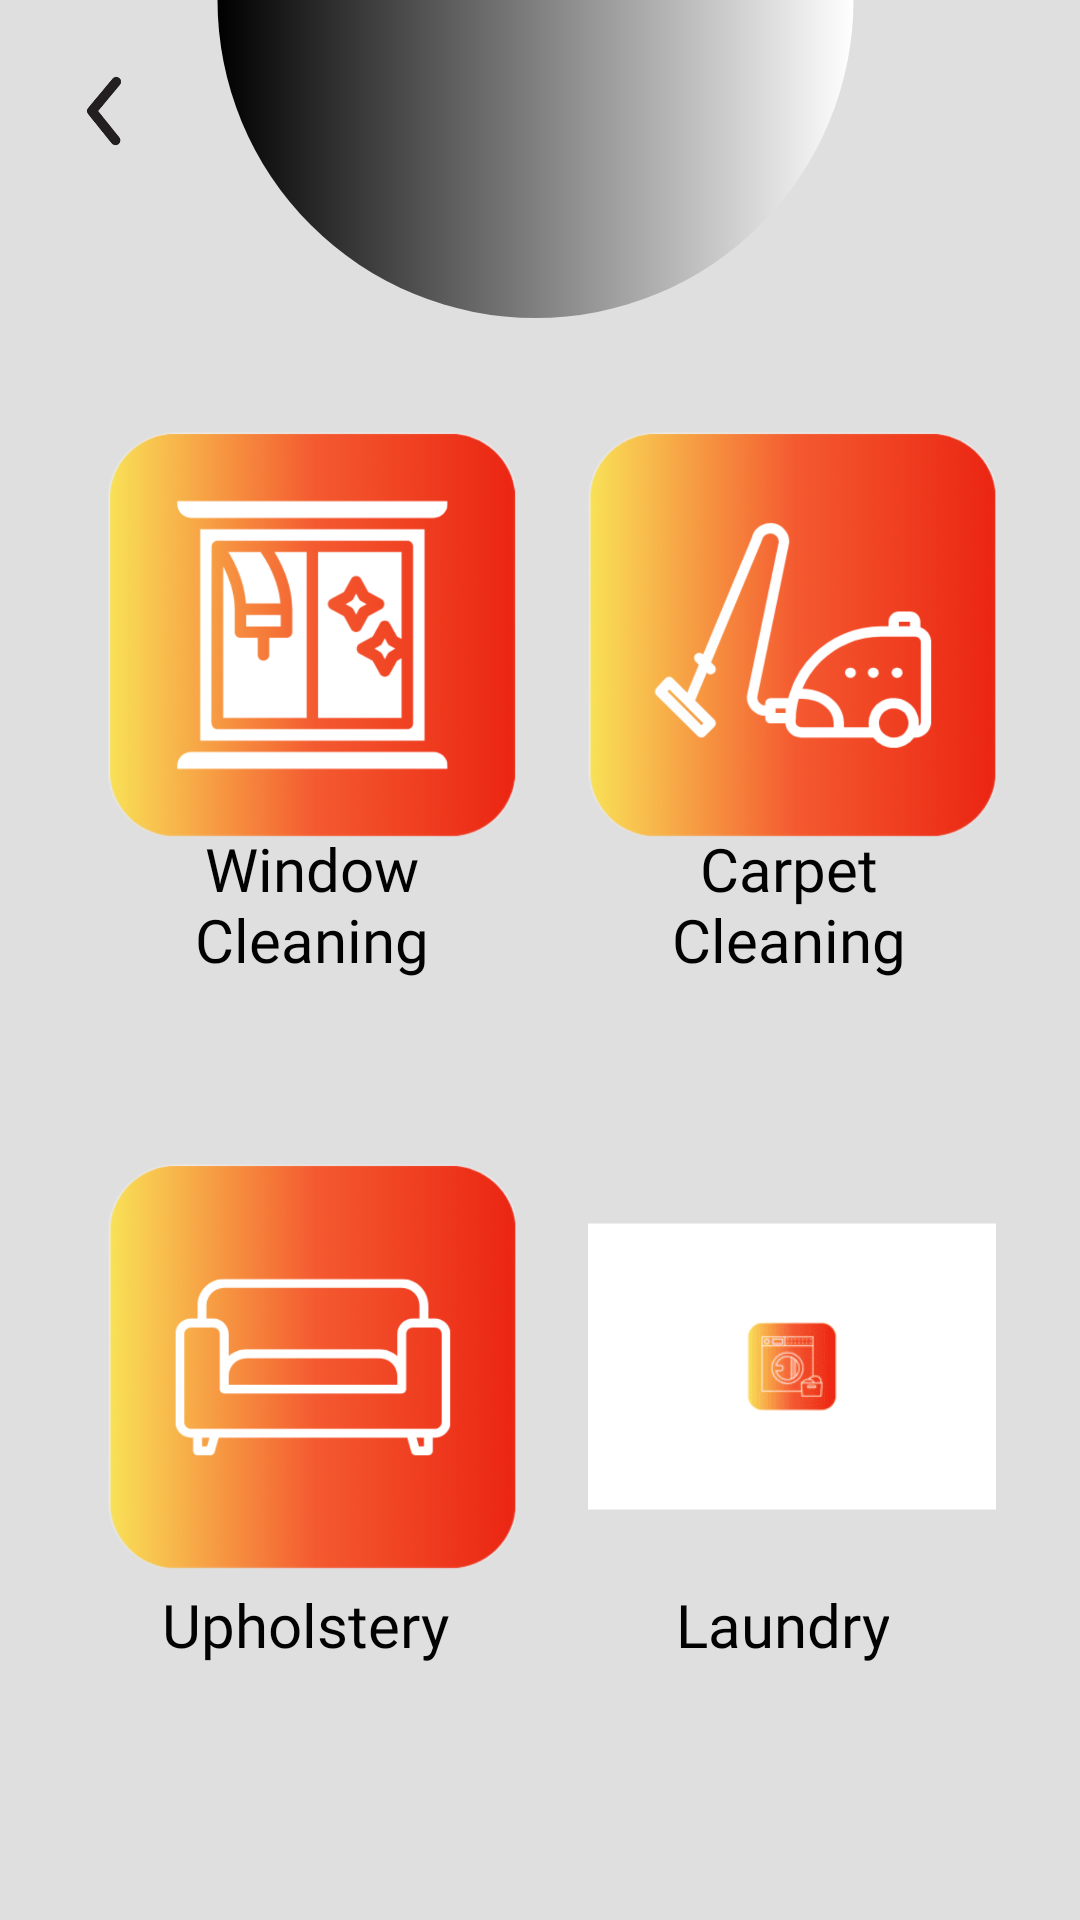

Screen size 1080 x 1920. Icon name, then its box in pixels as {"x1": x1, "y1": y1, "x2": x2, "y2": y2}:
back: {"x1": 87, "y1": 77, "x2": 121, "y2": 145}
